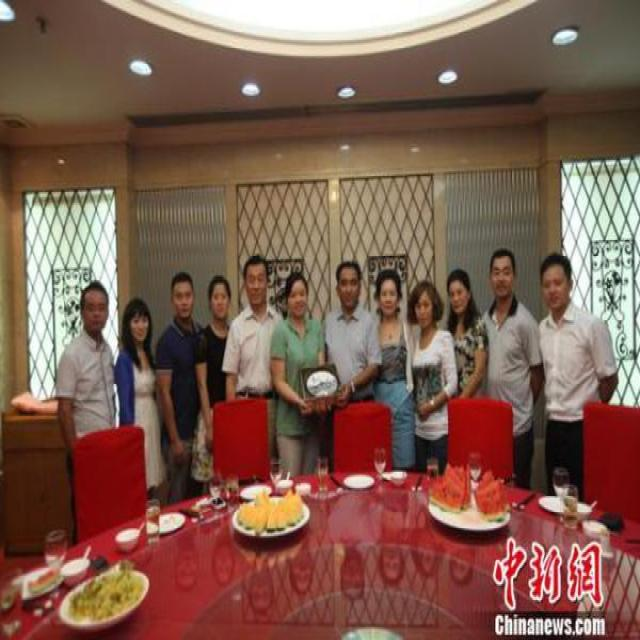non-fight: (536, 246, 618, 533), (57, 275, 131, 570), (215, 258, 290, 502), (480, 244, 543, 485), (359, 263, 424, 482), (114, 296, 168, 510), (319, 258, 382, 430)
